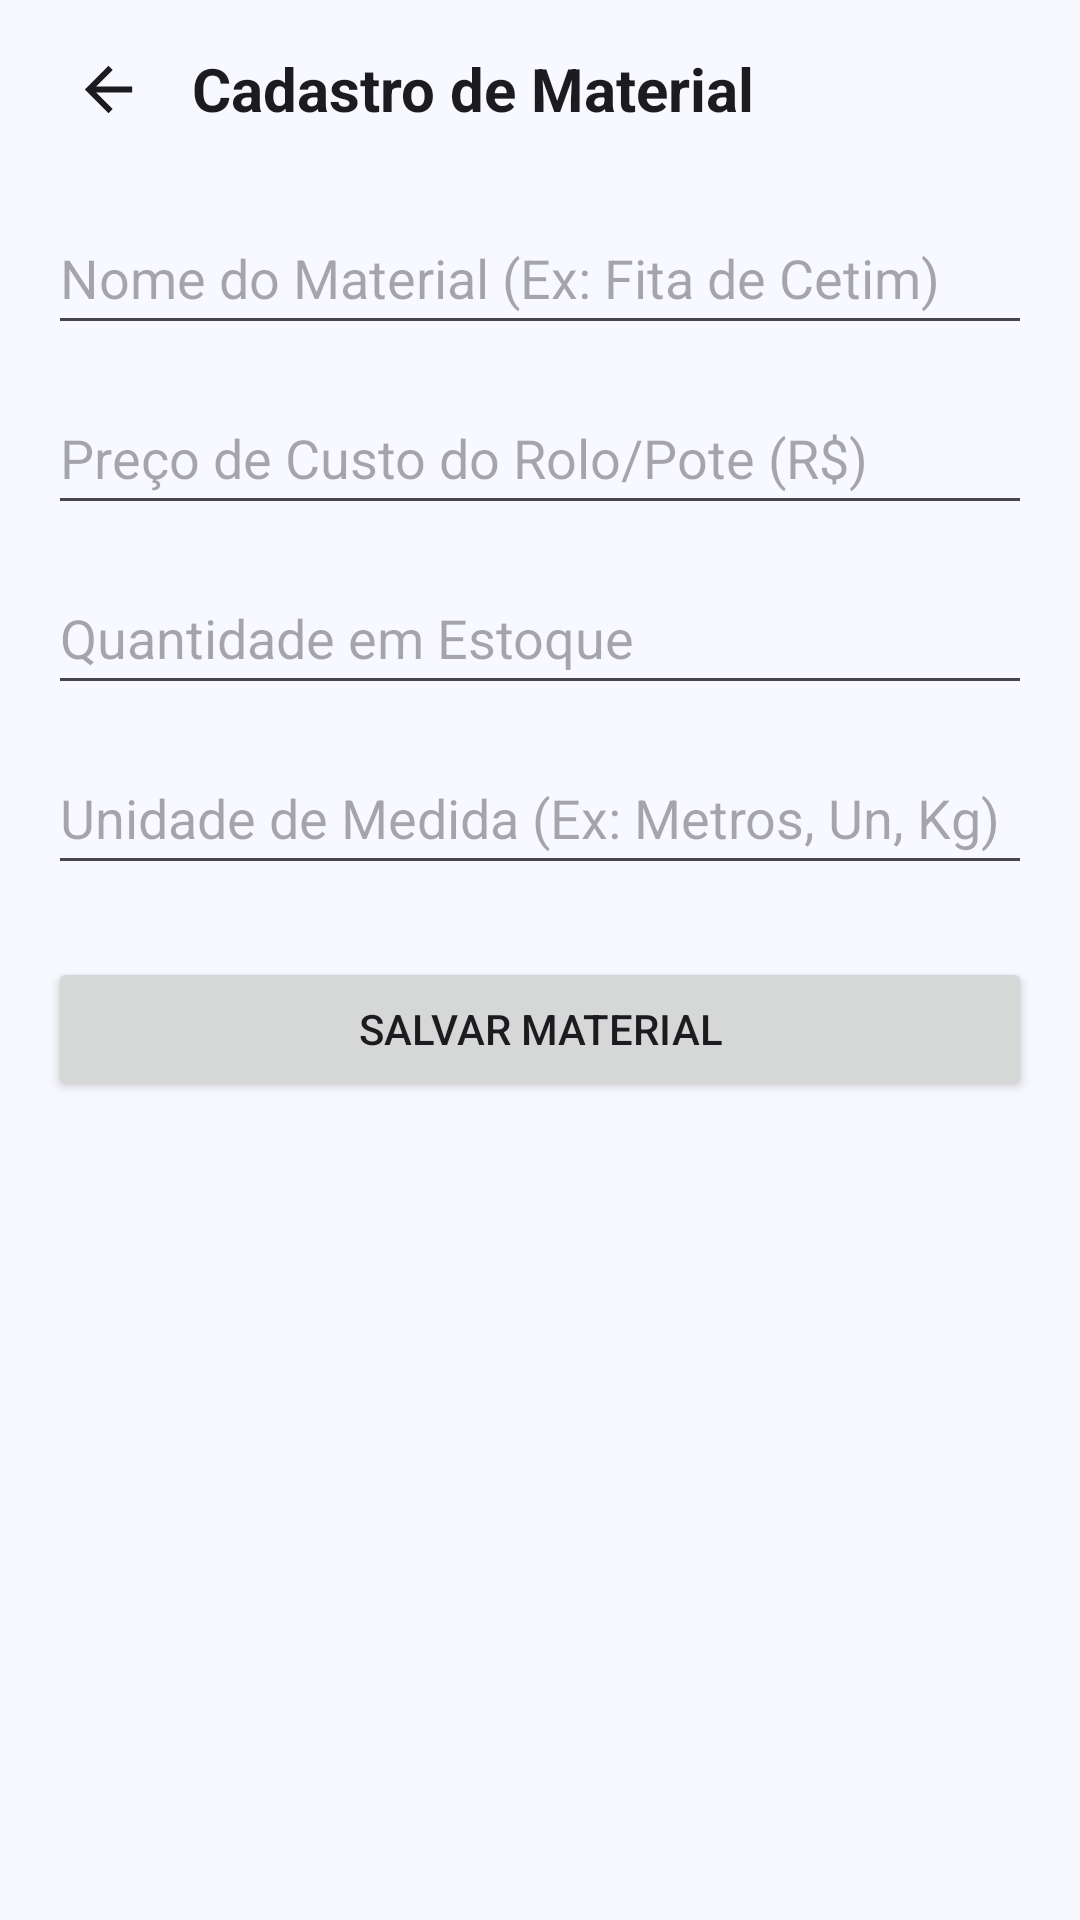

Named icons in this screenshot (1080px x 1920px) and their centers, (x=x, y=y):
Voltar: (x=109, y=89)
